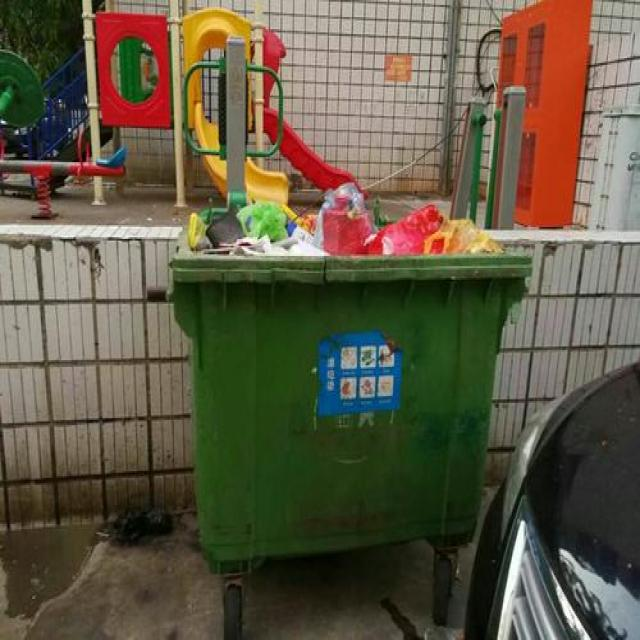overflow: (165, 193, 531, 573)
